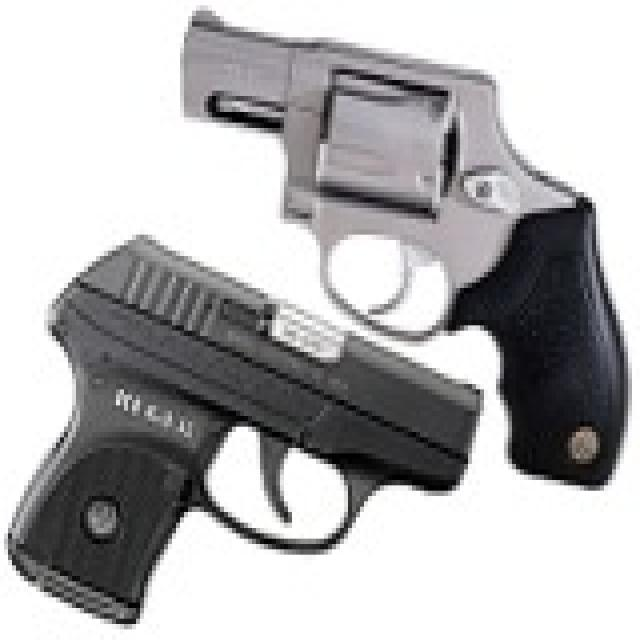Gun: (4, 0, 636, 629)
